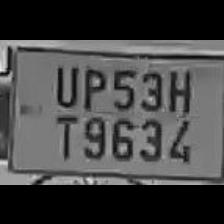3: (136, 64, 164, 110), (137, 113, 163, 159)
4: (164, 110, 195, 162)
5: (106, 61, 138, 109)
6: (107, 111, 135, 159)
9: (78, 112, 106, 158)
H: (164, 61, 195, 117)
P: (78, 61, 106, 107)
T: (48, 110, 78, 160)
U: (48, 58, 80, 108)
